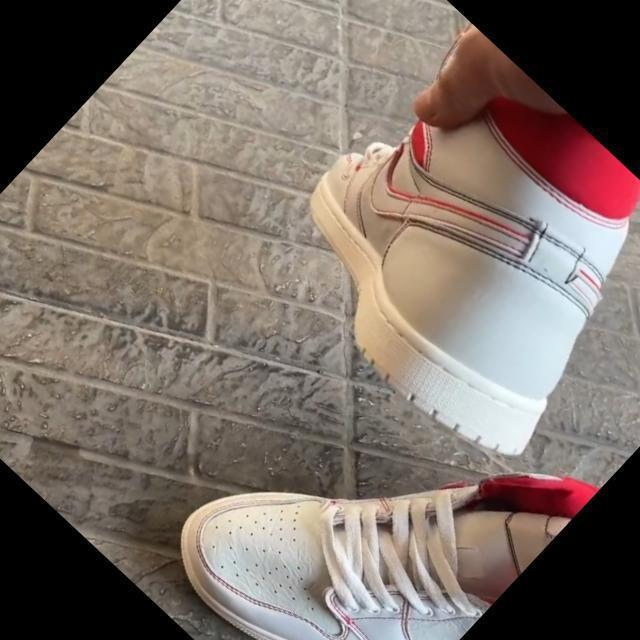nike fake jordan 1: (236, 12, 640, 485), (155, 296, 601, 640)
